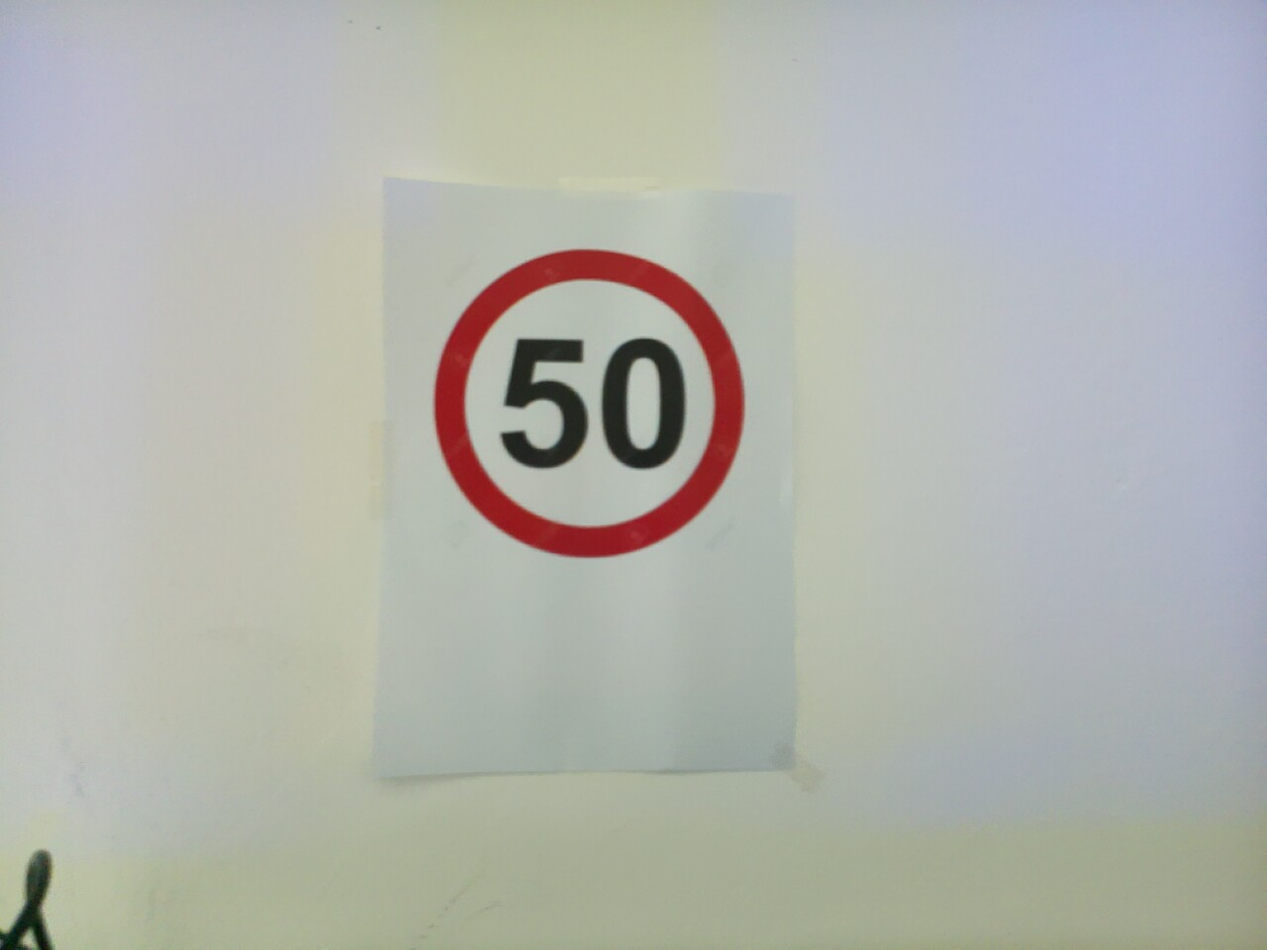speed_50: (425, 239, 755, 568)
